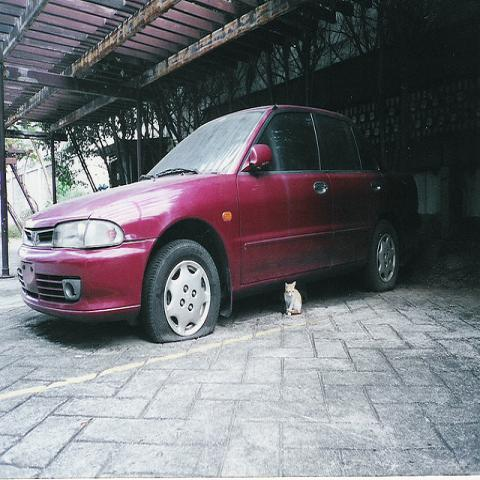car: (18, 102, 420, 342)
